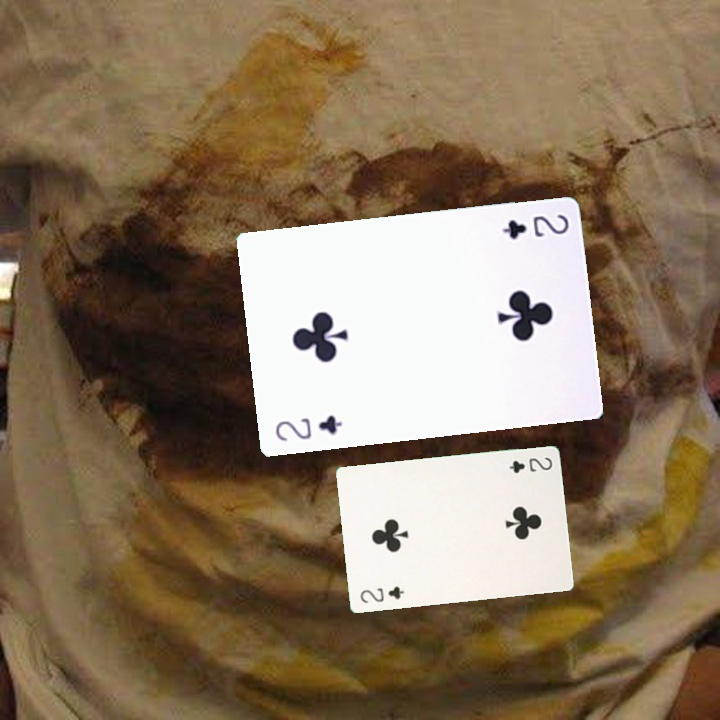2c: (271, 411, 345, 444), (498, 210, 571, 242), (356, 582, 407, 606), (505, 453, 555, 476)
